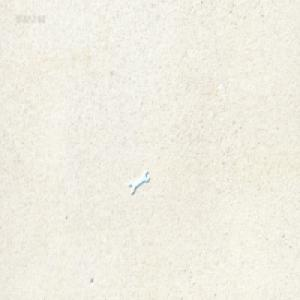Wrench: (128, 169, 150, 195)
